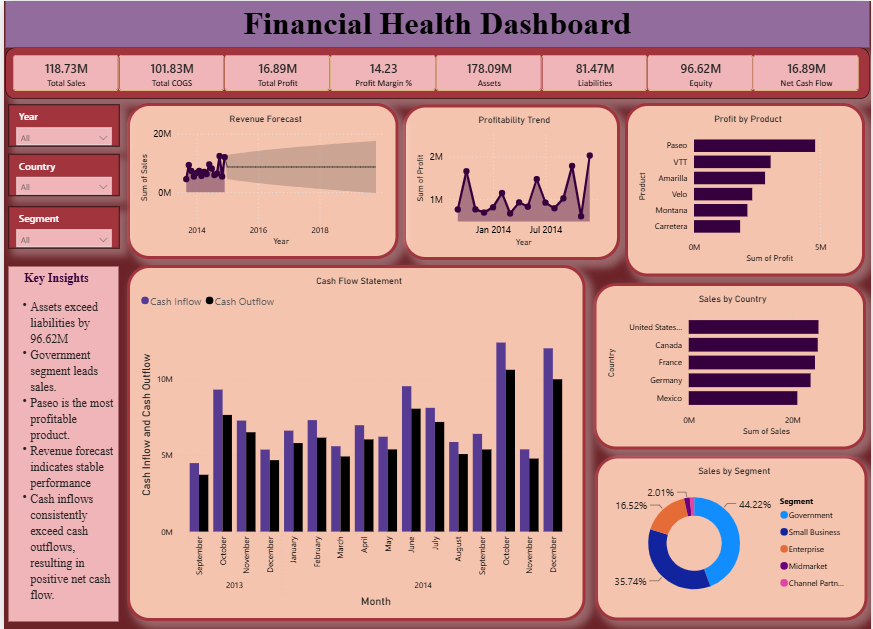

This screenshot's page, from the dashboard's own definition file:
{"tool":"powerbi","page":{"name":"Page 1","canvas":[1155,840],"ordinal":0},"visuals":[{"type":"cardVisual","title":"Total Sales","fields":{"Data":["Sum(financials. Sales)","Sum(financials.COGS)","Sum(financials.Profit)","financials.Profit Margin %","financials.Assets","financials.Liabilities","financials.Equity","financials.Net Cash Flow"]},"box":[1.7,61.7,1151.7,68.3],"z":0},{"type":"textbox","box":[1.7,0,1151.7,61.7],"z":500},{"type":"lineChart","title":"Profitability Trend","fields":{"Y":["Sum(financials.Profit)"],"Category":["financials.Date.Variation.Date Hierarchy.Year","financials.Date.Variation.Date Hierarchy.Month"]},"box":[531,137,289,207],"z":1000},{"type":"donutChart","title":"Sales by Segment","fields":{"Category":["financials.Segment"],"Y":["Sum(financials. Sales)"]},"box":[788.3,606.7,363.3,220],"z":2000},{"type":"clusteredBarChart","title":"Profit by Product","fields":{"Category":["financials.Product"],"Y":["Sum(financials.Profit)"]},"box":[827,136,320,231],"z":3000},{"type":"clusteredBarChart","title":"Sales by Country","fields":{"Category":["financials.Country"],"Y":["Sum(financials. Sales)"]},"box":[786.7,375,363.3,221.7],"z":4000},{"type":"lineChart","title":"Revenue Forecast","fields":{"Y":["Sum(financials. Sales)"],"Category":["financials.Date.Variation.Date Hierarchy.Year","financials.Date.Variation.Date Hierarchy.Quarter","financials.Date.Variation.Date Hierarchy.Month","financials.Date.Variation.Date Hierarchy.Day"]},"box":[163,136,362,208],"z":5000},{"type":"clusteredColumnChart","title":"Cash Flow Statement","fields":{"Category":["financials.Date.Variation.Date Hierarchy.Year","financials.Date.Variation.Date Hierarchy.Month"],"Y":["financials.Cash Inflow","financials.Cash Outflow"]},"box":[163.3,352.2,611.1,474.4],"z":6000},{"type":"slicer","title":"Year Filter","fields":{"Values":["financials.Year"]},"box":[6,137,148,56],"z":7000},{"type":"slicer","title":"Year Filter","fields":{"Values":["financials.Country"]},"box":[6,203,148,56],"z":9000},{"type":"slicer","title":"Year Filter","fields":{"Values":["financials.Segment"]},"box":[6,273,148,56],"z":10000},{"type":"textbox","box":[6.7,353.3,146.7,473.3],"z":11000}]}

Visuals, with their boxes in screenshot pixels (x1, y1, x2, y2), scaled from the page's 1155x840 canvas onto the 873x629 screenshot:
"Total Sales" cardVisual: <bbox>1, 46, 872, 97</bbox>
textbox: <bbox>1, 0, 872, 46</bbox>
"Profitability Trend" lineChart: <bbox>401, 103, 620, 258</bbox>
"Sales by Segment" donutChart: <bbox>596, 454, 870, 619</bbox>
"Profit by Product" clusteredBarChart: <bbox>625, 102, 867, 275</bbox>
"Sales by Country" clusteredBarChart: <bbox>595, 281, 869, 447</bbox>
"Revenue Forecast" lineChart: <bbox>123, 102, 397, 258</bbox>
"Cash Flow Statement" clusteredColumnChart: <bbox>123, 264, 585, 619</bbox>
"Year Filter" slicer: <bbox>5, 103, 116, 145</bbox>
"Year Filter" slicer: <bbox>5, 152, 116, 194</bbox>
"Year Filter" slicer: <bbox>5, 204, 116, 246</bbox>
textbox: <bbox>5, 265, 116, 619</bbox>
